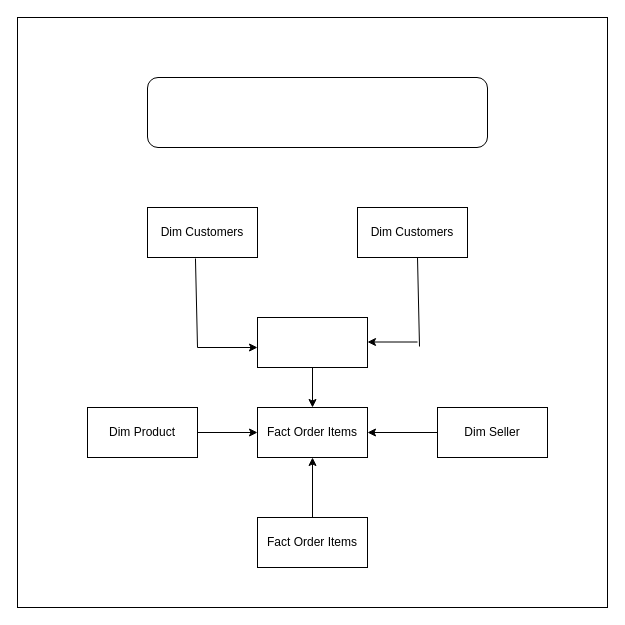
Image size: 625x625. Some labels were removed from this diagram. The centre of each missing label's shape, as x and y in pixels:
Fact Orders: pixel 312 342
Star Schema: pixel 317 112
